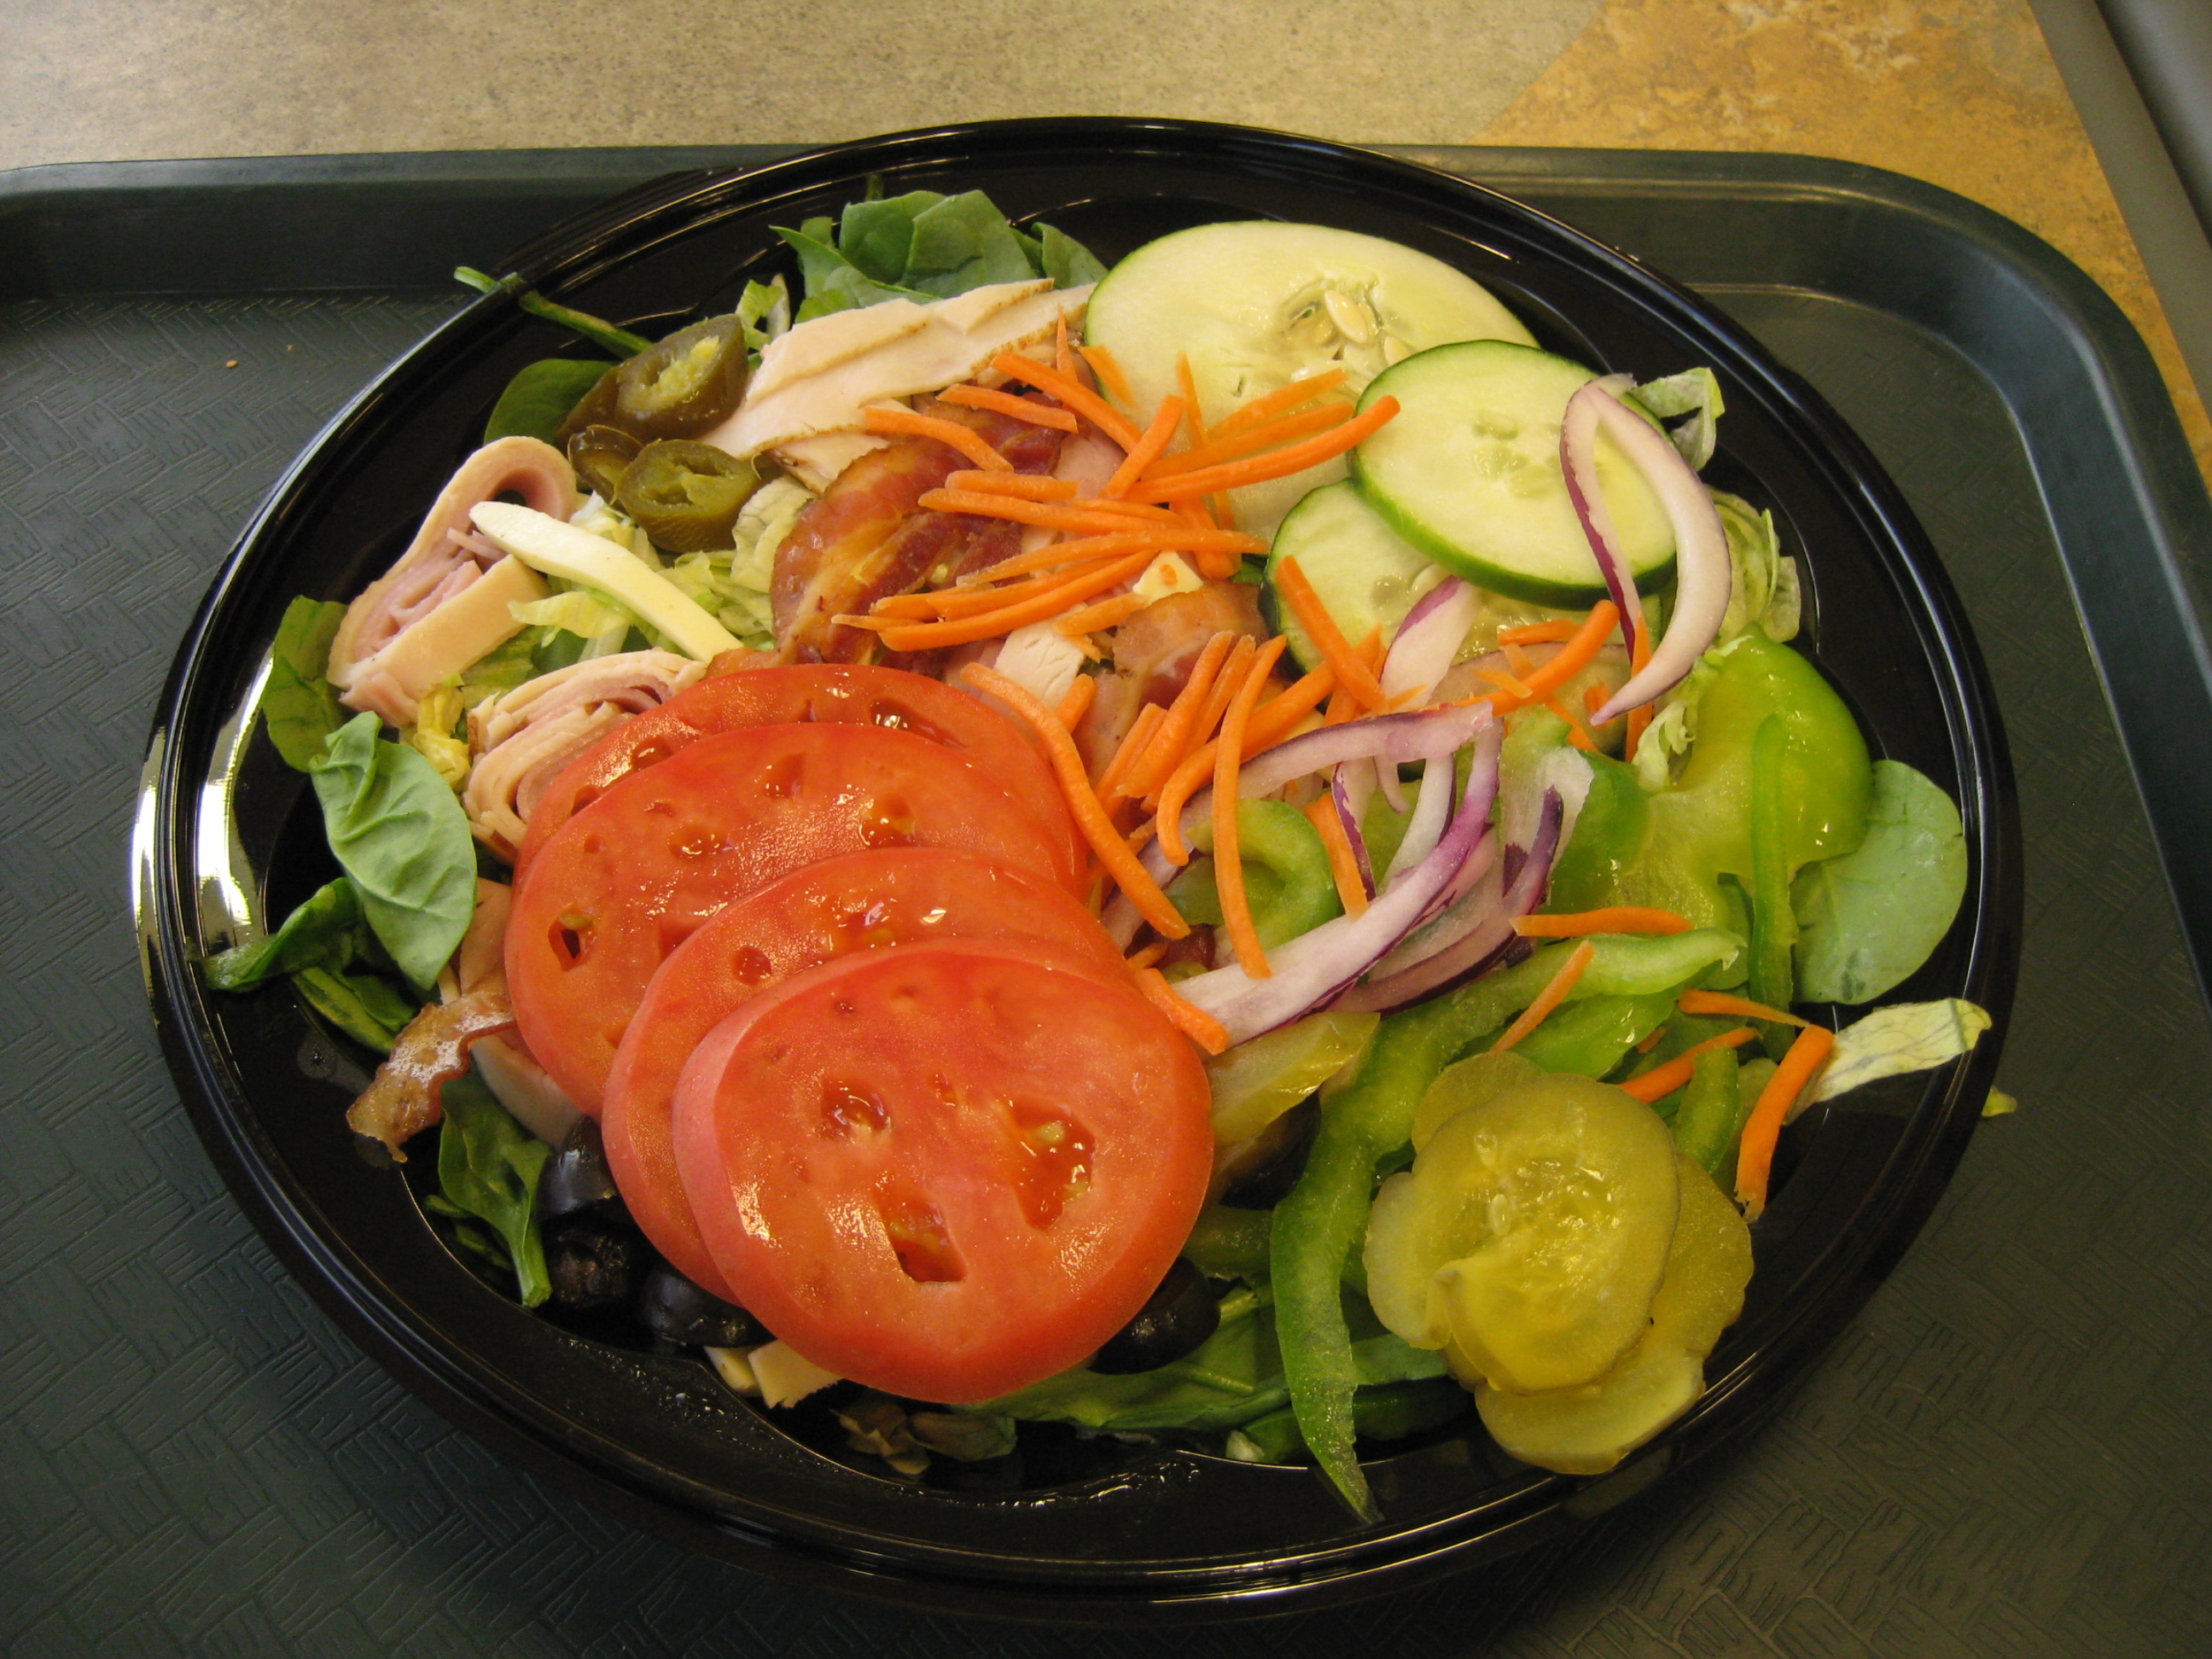salad: (297, 212, 1950, 1505)
